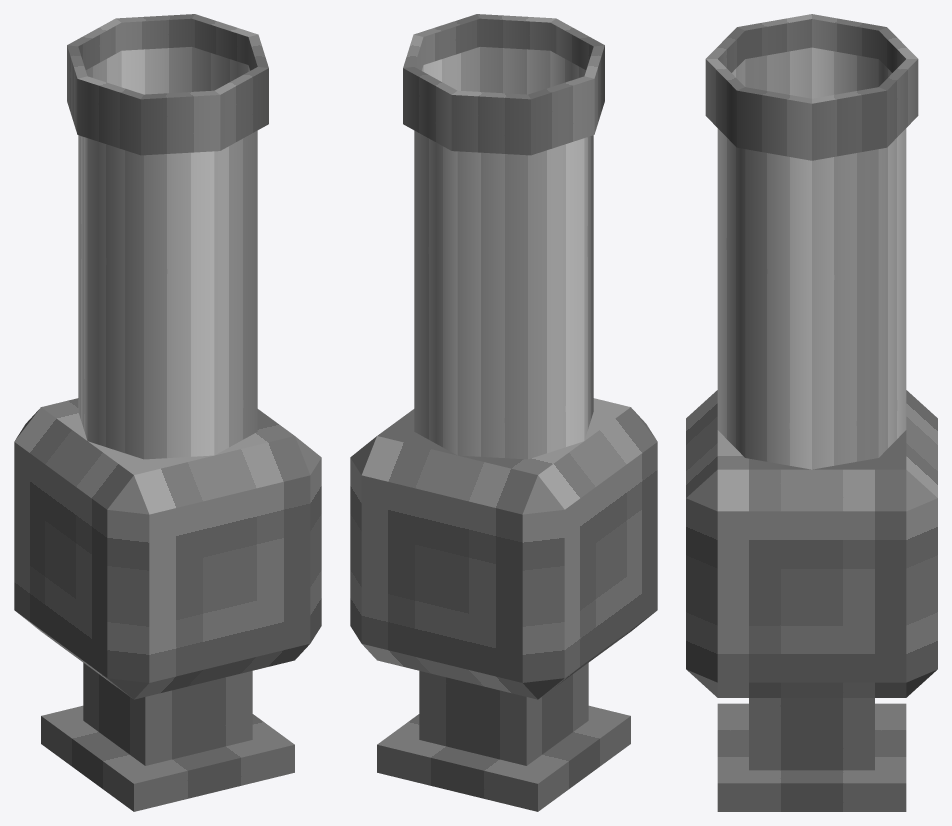
Rendered from pipe_anchor.obj.
3 renders of one model, left to right at view 1: azimuth 30°, elevation 25°; view 2: azimuth 150°, elevation 25°; view 3: azimuth 270°, elevation 25°, orthographic.
Parts seen in each view (by area): view 1: Anchor, Pipe, Ring; view 2: Anchor, Pipe, Ring; view 3: Anchor, Pipe, Ring.
Part boxes in pixels (x1,y1,x2,y2): Anchor: (14,398,321,811); Pipe: (78,47,257,459); Ring: (67,14,268,155); Anchor: (350,398,657,811); Pipe: (414,47,593,459); Ring: (403,14,604,155); Anchor: (686,390,937,811); Pipe: (717,47,906,469); Ring: (705,14,918,160).
Size of the model in its own units: 0.5 by 1.56 by 0.5.
